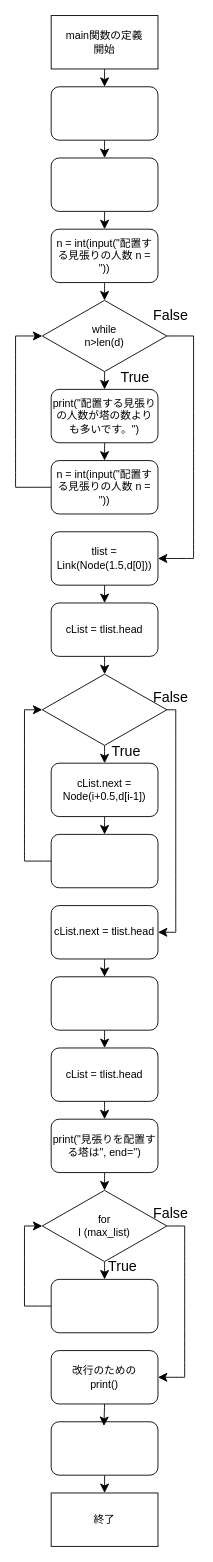
Some shapes in this 213 by 1562 pixel diagram are drawn without their labels. Here are the shapes that lost their labels. From the top down, the box of each, then its label:
(50, 86, 158, 140): グローバル変数 tlist,max,max_list, d
(50, 157, 158, 211): d = [ 8, 14, 13, 7, 15, 12, 16, 15, 12, 9 ]（d0）を格納
(41, 673, 167, 745): for i ←（2,len(d)+1）
(50, 833, 158, 888): cList = cList.next
(50, 976, 158, 1030): 関数all_search(n) の呼び出し
(50, 1278, 158, 1333): print("、{}番目".format(l), end='')
(50, 1421, 158, 1475): print("この組み合わせでの塔間の距離の最小値は {}".format(max))
